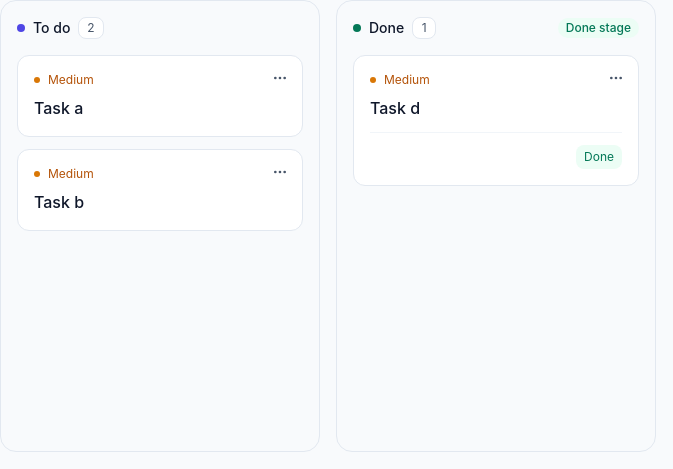
it: KanbanBoard moves from the menu › offers only the moves that exist
Click the button named "Move options for Task a" at x=280, y=78, box [266,64,294,92]
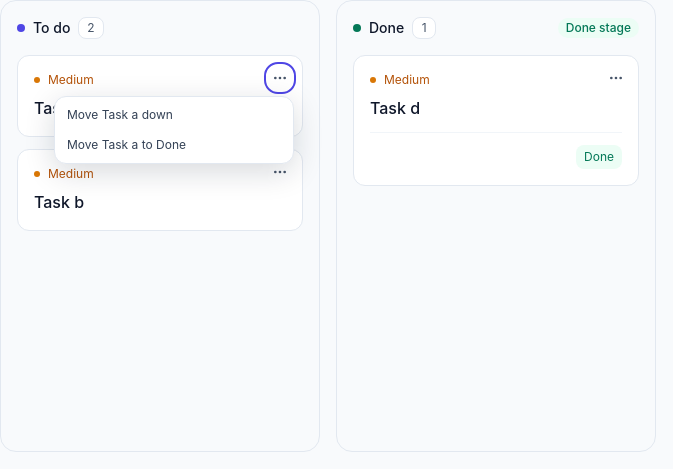
Now the button "Move Task a down" is shown, box [59,101,289,129]
